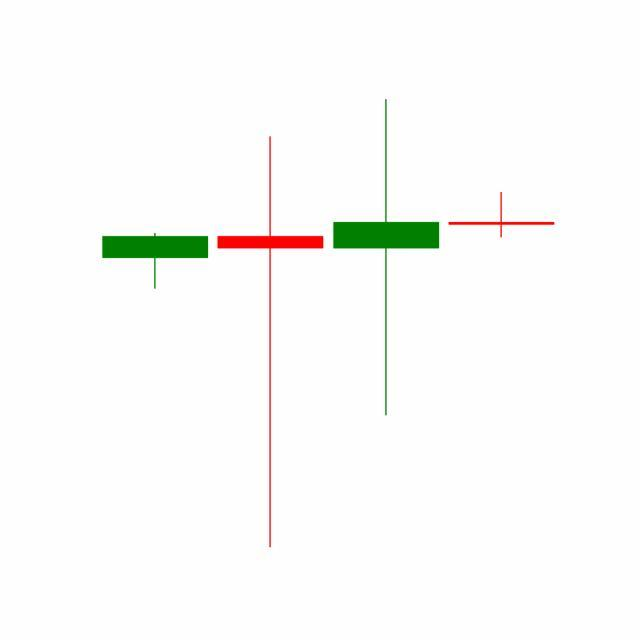Spinning Top: (329, 97, 445, 421)
